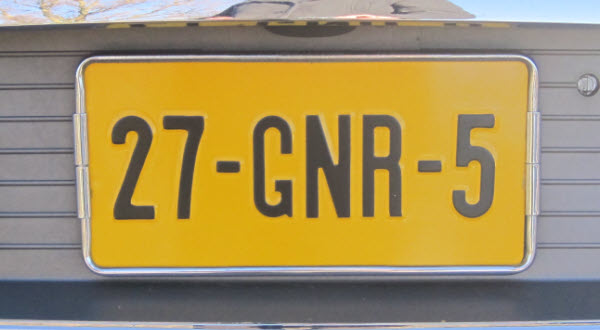license_plate: (74, 54, 540, 271)
